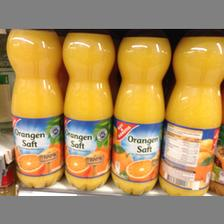Saft: (159, 31, 223, 195), (110, 32, 170, 192), (5, 29, 63, 187), (60, 29, 114, 189)
